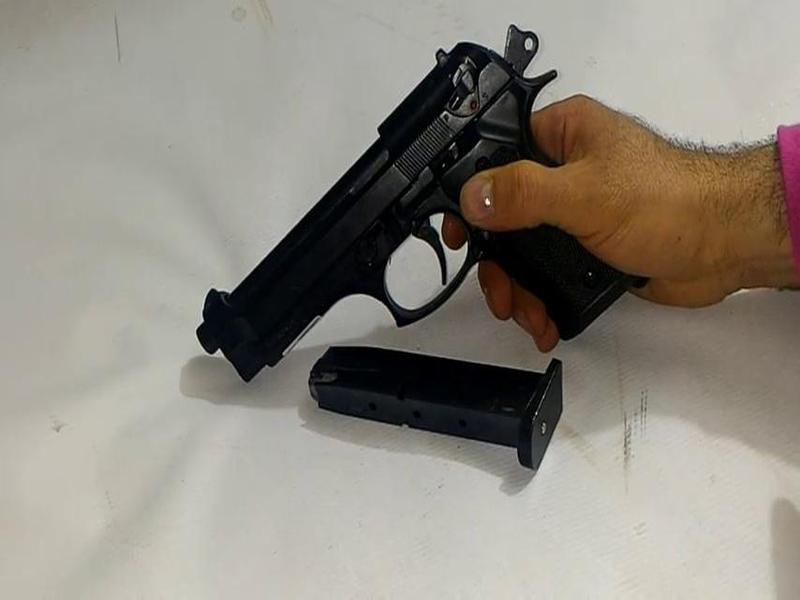Pistola: (141, 20, 647, 374)
